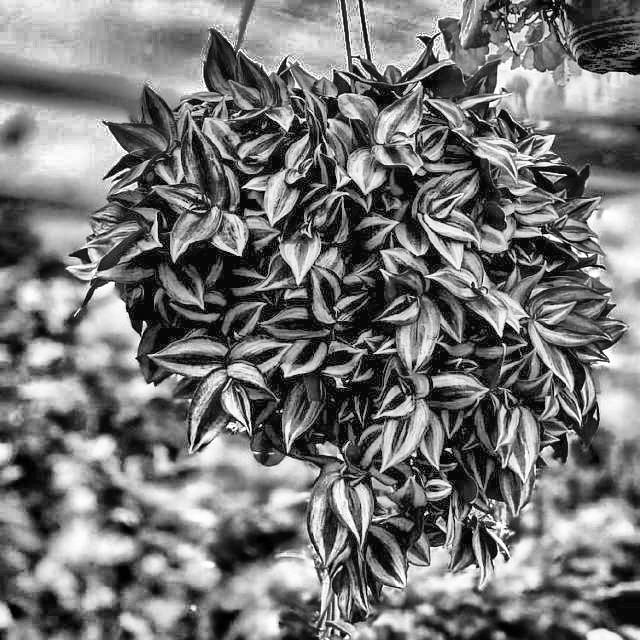plants: (65, 29, 628, 582)
